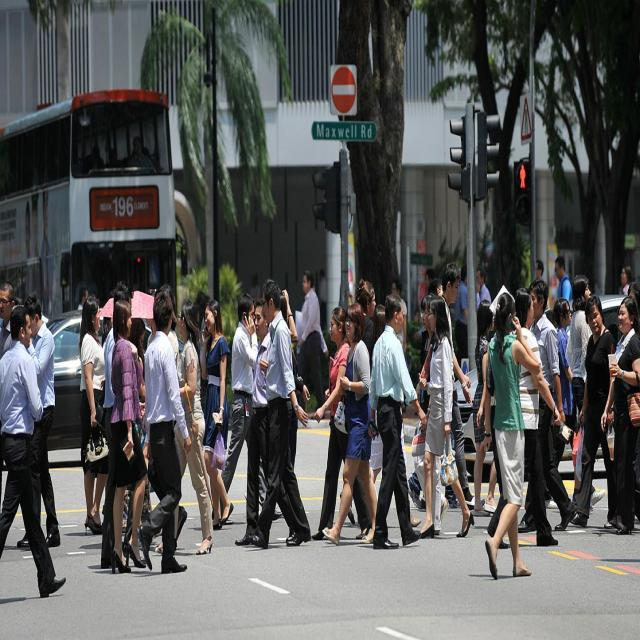body: (1, 94, 173, 287), (0, 304, 68, 603), (407, 261, 484, 512), (488, 286, 560, 554), (243, 277, 312, 551), (211, 293, 286, 527), (234, 298, 302, 550), (484, 290, 541, 582), (92, 284, 155, 544), (368, 290, 428, 552), (517, 278, 577, 532), (154, 298, 213, 556), (312, 304, 375, 542), (417, 295, 475, 539), (541, 296, 606, 511), (322, 301, 379, 546), (417, 290, 472, 536), (566, 294, 619, 529), (15, 289, 62, 552), (146, 284, 188, 552), (257, 285, 311, 493), (109, 298, 148, 575), (100, 280, 136, 570), (564, 273, 607, 513), (599, 295, 640, 537), (602, 294, 640, 532), (380, 278, 417, 517), (79, 293, 112, 537), (200, 299, 233, 534), (370, 398, 426, 528), (471, 298, 498, 515), (296, 280, 329, 431), (297, 267, 326, 421), (354, 277, 378, 380), (414, 268, 443, 340), (454, 262, 468, 382), (0, 278, 16, 359), (192, 289, 210, 358), (475, 265, 493, 314), (554, 254, 572, 302), (320, 264, 331, 314), (373, 303, 387, 342), (339, 270, 352, 311), (620, 264, 634, 296), (426, 277, 444, 300), (252, 272, 261, 302), (534, 258, 544, 281), (592, 277, 601, 294)
